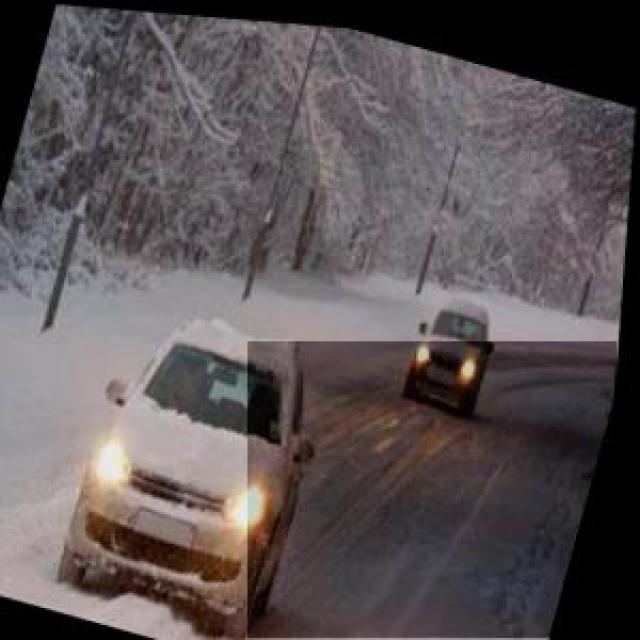ice-road: (249, 343, 616, 638), (4, 487, 203, 640)
